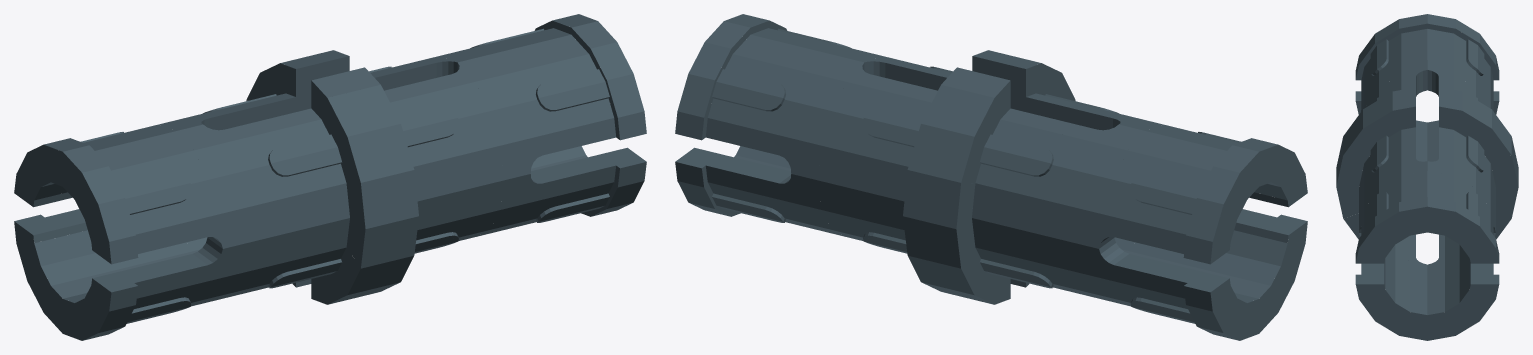
3 views of the same model, side by side, from view 1: azimuth 30°, elevation 25°; view 2: azimuth 150°, elevation 25°; view 3: azimuth 270°, elevation 25° (orthographic). The views are drawn at different scales.
Parts seen in each view (by area): view 1: world; view 2: world; view 3: world.
Boxes of the visible parts, left/top/right/bottom form: world: left=14, top=14, right=646, bottom=340; world: left=675, top=14, right=1307, bottom=340; world: left=1336, top=14, right=1518, bottom=340.
Size of the model in its own units: 0.016 by 0.00624 by 0.0064.
